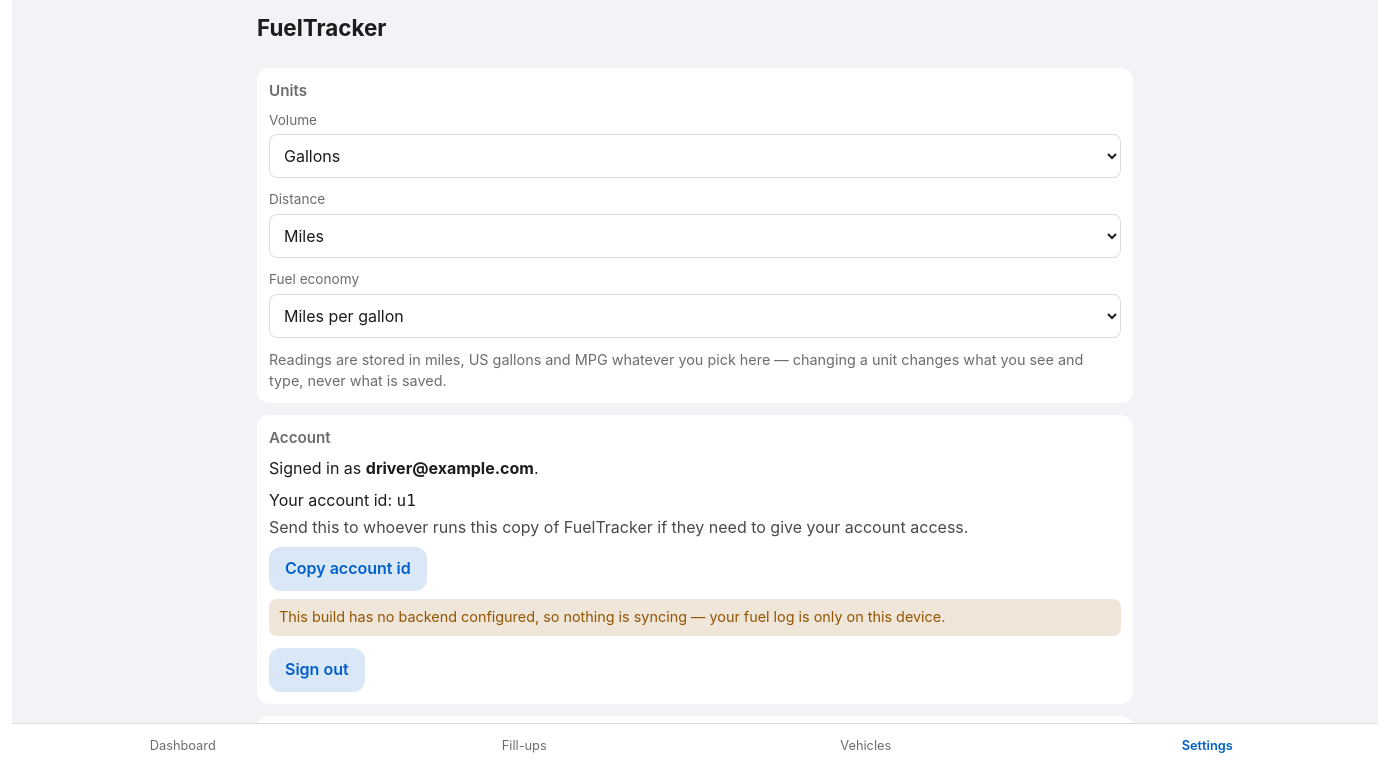
the account section › the account id › says to copy it by hand when the browser refuses the clipboard
Expected: the navigation bar named "sections" is shown, [12, 723, 1378, 767]
Click the button "Copy account id" at (348, 569), box [269, 547, 427, 591]
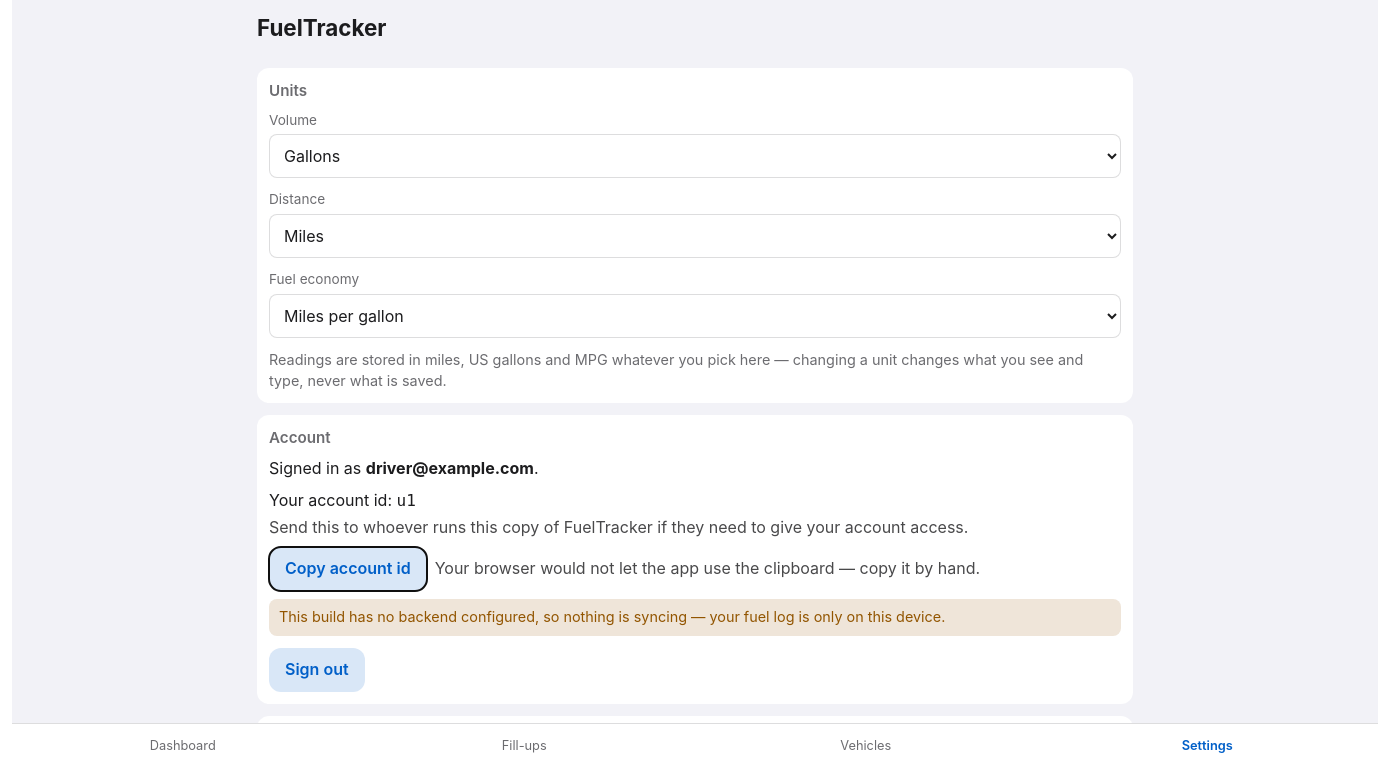
Expected: the text "u1" is shown, [396, 491, 416, 510]
Expected: the text "by hand" is shown, [435, 558, 980, 578]
